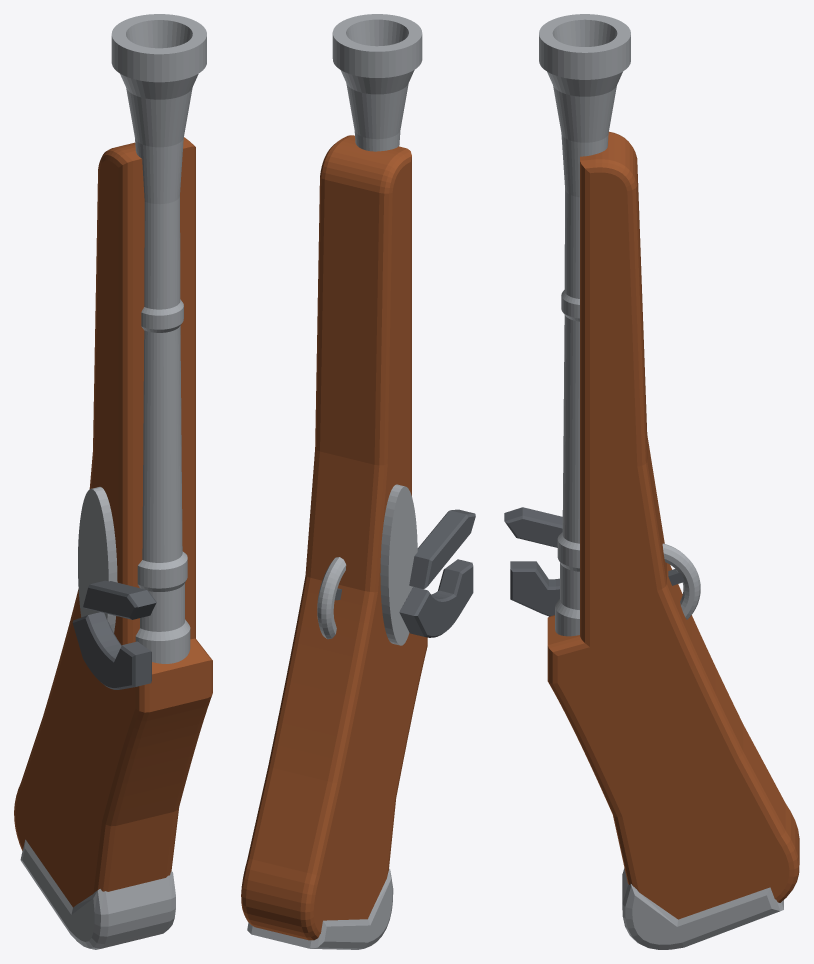
File: Blunderbuss.ready.glb
3 renders of one model, left to right at view 1: azimuth 30°, elevation 25°; view 2: azimuth 150°, elevation 25°; view 3: azimuth 270°, elevation 25°, orthographic. The views are drawn at different scales.
Parts seen in each view (by area): view 1: Blunderbuss; view 2: Blunderbuss; view 3: Blunderbuss.
Part boxes in pixels (box(x1,y1,x2,y2)): Blunderbuss: box(14, 14, 212, 949); Blunderbuss: box(241, 14, 475, 949); Blunderbuss: box(504, 14, 799, 949).
Bounding box in the file's own units: 0.475 × 3.99 × 1.18.
Materials: 1 (1 with a texture image).
